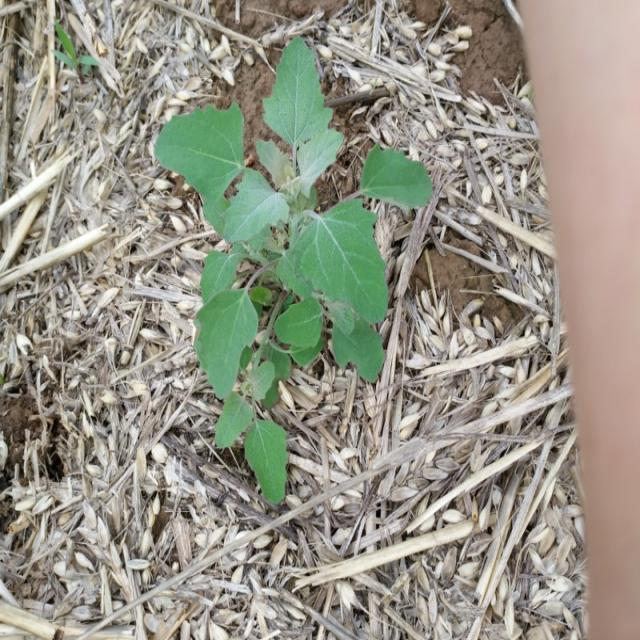goosefoots: (138, 66, 414, 507)
